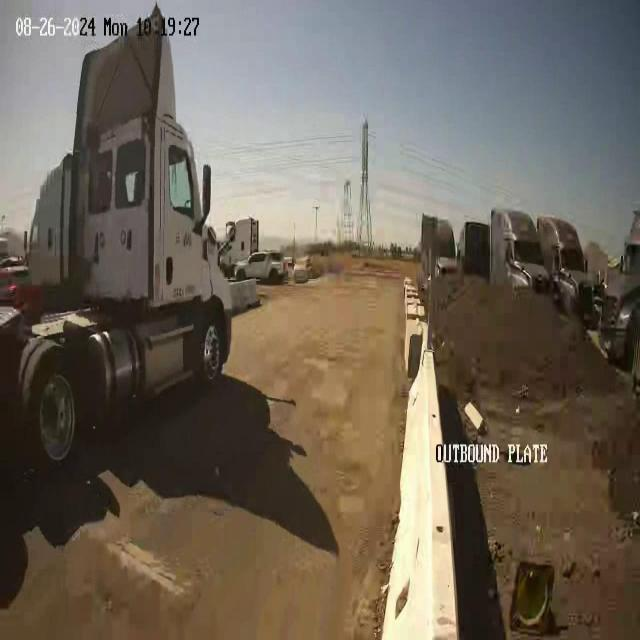TRUCK_IN: (1, 1, 261, 468)
